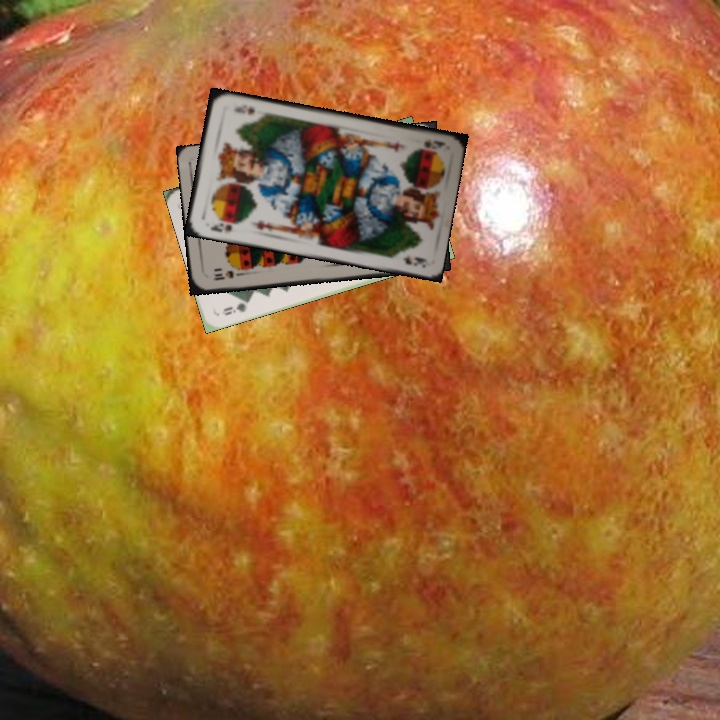G9: (219, 295, 253, 318)
S10: (209, 266, 245, 283)
SK: (420, 136, 448, 152), (206, 219, 235, 234)
